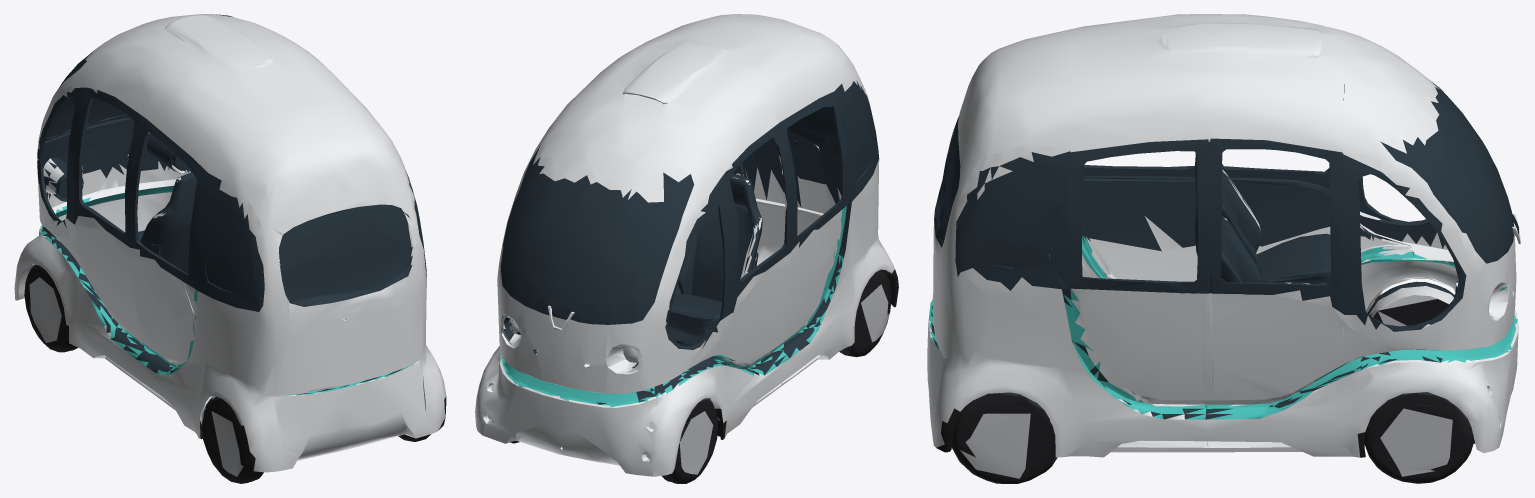
The model's file is teleopVehRobotaxi.1f39a6be.glb.
3 views of the same model, side by side, from view 1: azimuth 30°, elevation 25°; view 2: azimuth 150°, elevation 25°; view 3: azimuth 270°, elevation 25° (orthographic). The views are drawn at different scales.
Visible parts, largest first — view 1: output_unwrapped; view 2: output_unwrapped; view 3: output_unwrapped.
Part boxes in pixels (x1=…): output_unwrapped: x1=14, y1=14, x2=446, y2=483; output_unwrapped: x1=475, y1=14, x2=898, y2=483; output_unwrapped: x1=927, y1=14, x2=1520, y2=483.
Size of the model in its own units: 0.8921 by 1.41 by 1.9.
